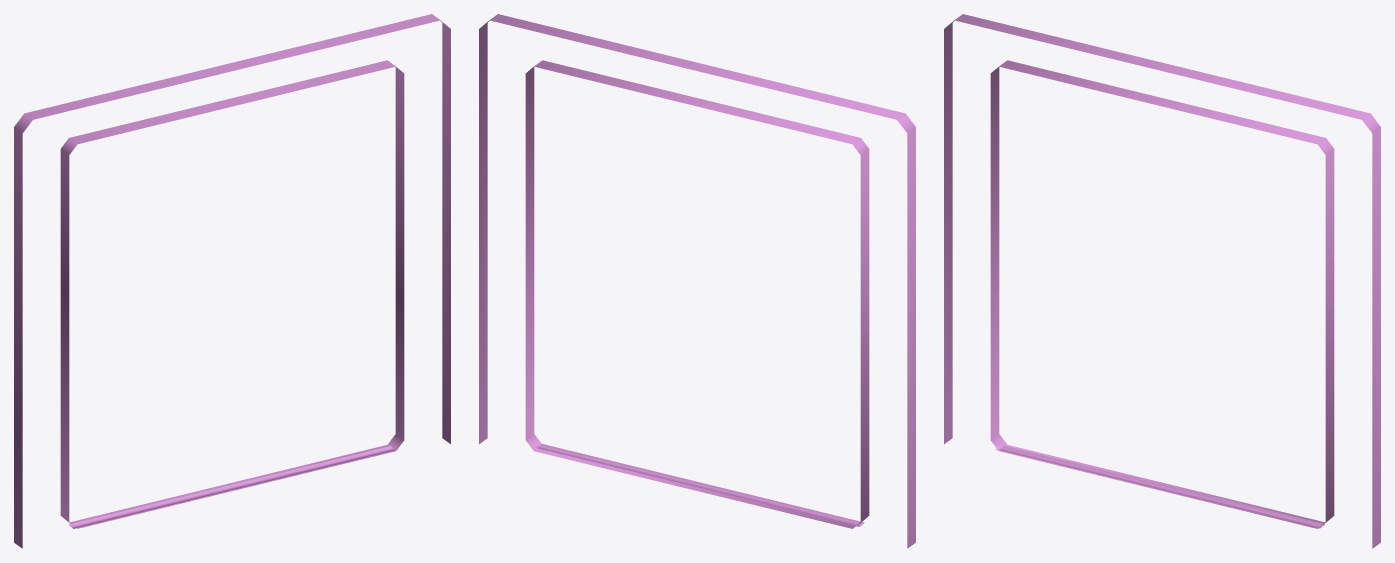
The model's file is Door02_Frame02.FBX.
The picture shows the model from 3 angles, left to right: view 1: azimuth 30°, elevation 25°; view 2: azimuth 150°, elevation 25°; view 3: azimuth 330°, elevation 25°; orthographic projection.
Visible parts, largest first — view 1: SM_Door02_Frame02; view 2: SM_Door02_Frame02; view 3: SM_Door02_Frame02.
Part boxes in pixels (box(x1,y1,x2,y2)): SM_Door02_Frame02: box(14, 14, 450, 548); SM_Door02_Frame02: box(479, 14, 915, 548); SM_Door02_Frame02: box(944, 14, 1380, 548).
Size of the model in its own units: 301 by 287 by 10.63.
